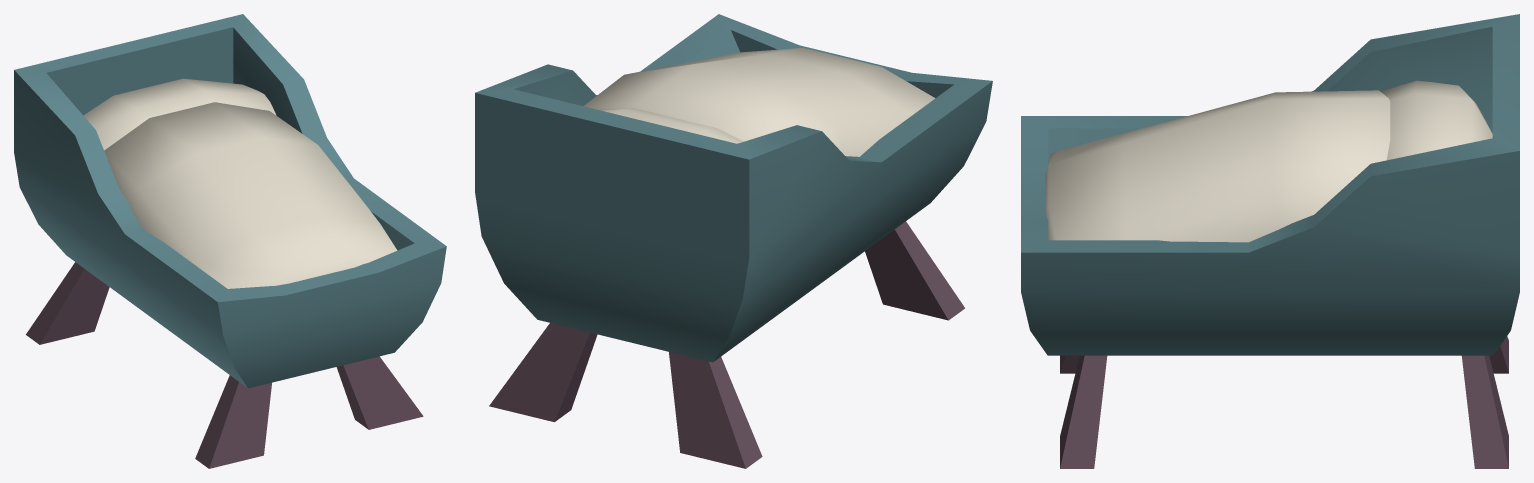
The model's file is crib_01.fbx.
3 views of the same model, side by side, from view 1: azimuth 30°, elevation 25°; view 2: azimuth 150°, elevation 25°; view 3: azimuth 270°, elevation 25° (orthographic). The views are drawn at different scales.
Visible parts, largest first — view 1: crib_01; view 2: crib_01; view 3: crib_01.
Part boxes in pixels (box(x1,y1,x2,y2)): crib_01: box(14, 14, 446, 468); crib_01: box(475, 14, 992, 468); crib_01: box(1021, 14, 1519, 468).
Size of the model in its own units: 66.96 by 73.58 by 103.
